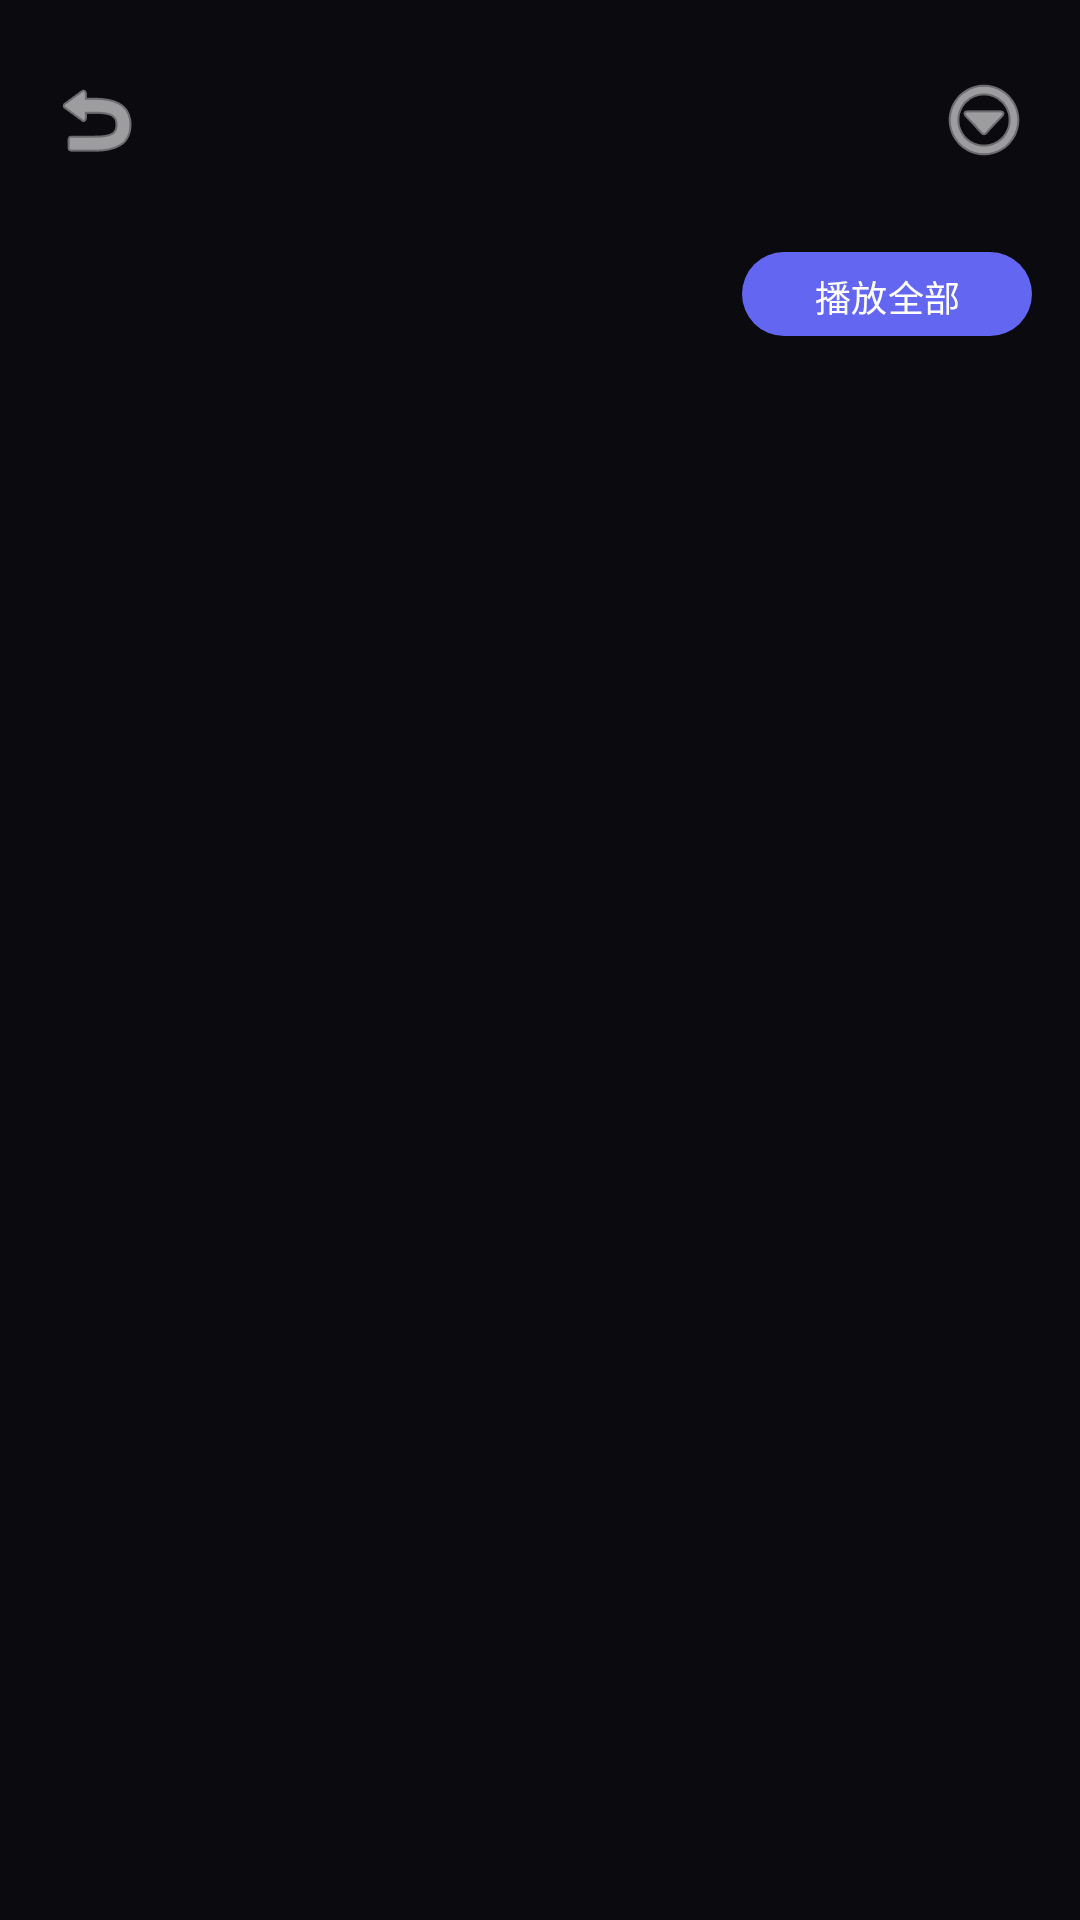

Named icons in this screenshot (1080 x 1920) and their centers, (x,y):
更多: (984,120)
返回: (97,120)
